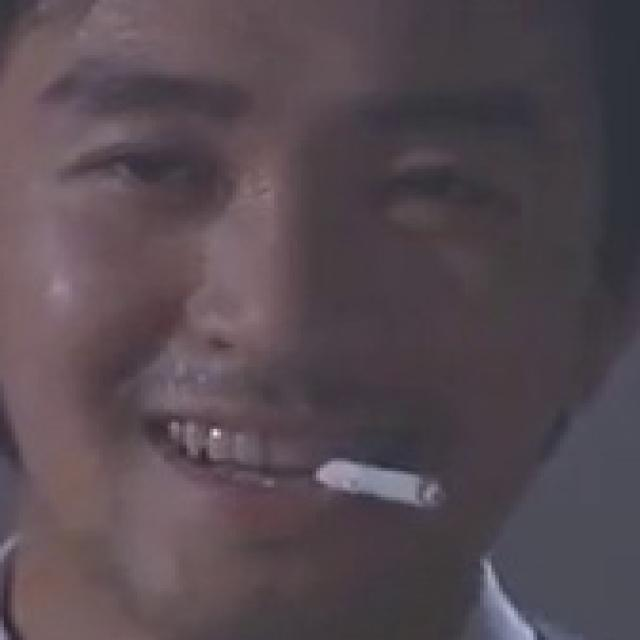smoking: (315, 454, 443, 505)
